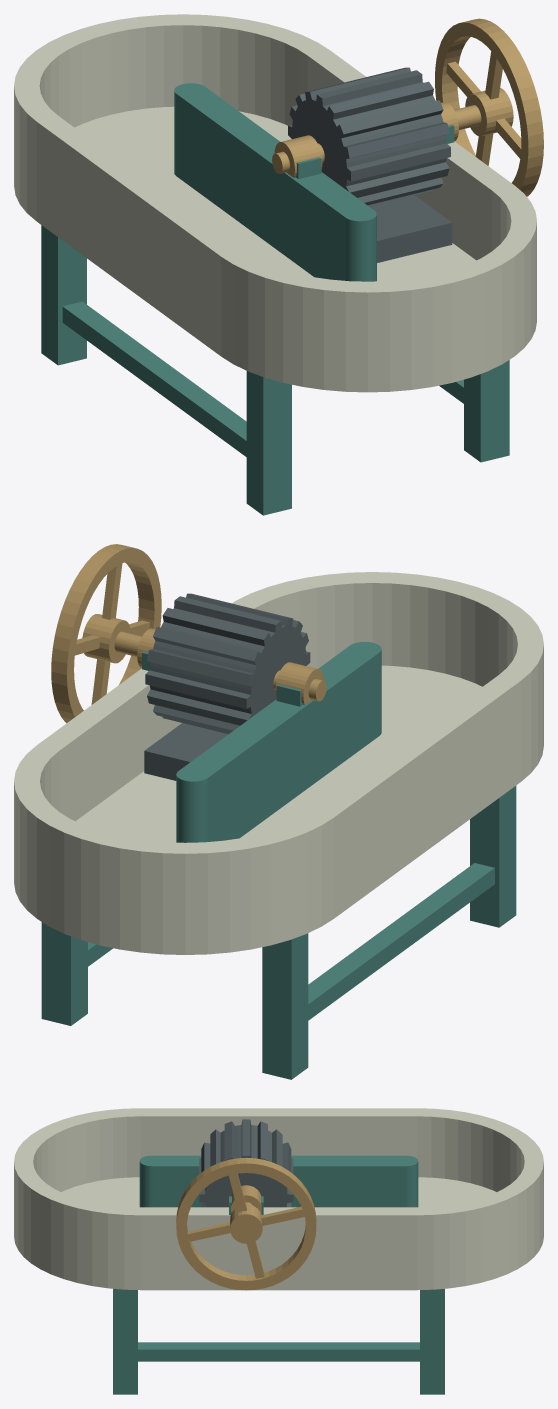
3 renders of one model, top to bottom at view 1: azimuth 30°, elevation 25°; view 2: azimuth 150°, elevation 25°; view 3: azimuth 270°, elevation 25°, orthographic. The views are drawn at different scales.
Parts seen in each view (by area): view 1: WholeClosedBottomOvalRacewayTub, WholeRoundedCentralPartition, WholeIntegralLongBarBeaterDrum, LeftWholeLowerRail, WholeOutsideDriveWheelRim, LeftForeWholeGroundLeg, LeftAftWholeGroundLeg, RightForeWholeGroundLeg, WholeRaisedBedPlate, WholeOutsideDriveWheelHub, InnerWholeBoredShaftCollar, WholeThroughDrumShaft; view 2: WholeClosedBottomOvalRacewayTub, WholeRoundedCentralPartition, WholeIntegralLongBarBeaterDrum, LeftWholeLowerRail, WholeOutsideDriveWheelRim, LeftAftWholeGroundLeg, LeftForeWholeGroundLeg, RightAftWholeGroundLeg, WholeRaisedBedPlate, WholeOutsideDriveWheelHub, InnerWholeBoredShaftCollar, WholeThroughDrumShaft (+1 smaller); view 3: WholeClosedBottomOvalRacewayTub, WholeRoundedCentralPartition, RightWholeLowerRail, WholeOutsideDriveWheelRim, WholeIntegralLongBarBeaterDrum, RightAftWholeGroundLeg, RightForeWholeGroundLeg, WholeOutsideDriveWheelHub, WholeDriveWheelSpoke_2, WholeDriveWheelSpoke_0, OuterWholeBoredShaftCollar, WholeDriveWheelSpoke_1 (+1 smaller).
Part boxes in pixels (box(x1,y1,x2,y2)): WholeClosedBottomOvalRacewayTub: box(14, 14, 536, 392); WholeRoundedCentralPartition: box(174, 83, 376, 281); WholeIntegralLongBarBeaterDrum: box(288, 67, 450, 206); LeftWholeLowerRail: box(62, 301, 246, 456); WholeOutsideDriveWheelRim: box(435, 18, 543, 196); LeftForeWholeGroundLeg: box(246, 371, 291, 515); LeftAftWholeGroundLeg: box(41, 225, 86, 365); RightForeWholeGroundLeg: box(464, 360, 509, 462); WholeRaisedBedPlate: box(369, 195, 452, 262); WholeOutsideDriveWheelHub: box(465, 88, 513, 136); InnerWholeBoredShaftCollar: box(274, 135, 322, 177); WholeThroughDrumShaft: box(272, 105, 481, 173); WholeClosedBottomOvalRacewayTub: box(14, 572, 543, 954); WholeRoundedCentralPartition: box(176, 642, 381, 842); WholeIntegralLongBarBeaterDrum: box(145, 593, 310, 734); LeftWholeLowerRail: box(308, 863, 494, 1020); WholeOutsideDriveWheelRim: box(51, 544, 161, 723); LeftAftWholeGroundLeg: box(262, 933, 308, 1079); LeftForeWholeGroundLeg: box(470, 785, 516, 927); RightAftWholeGroundLeg: box(41, 922, 87, 1025); WholeRaisedBedPlate: box(144, 723, 228, 780); WholeOutsideDriveWheelHub: box(82, 614, 130, 663); InnerWholeBoredShaftCollar: box(275, 662, 324, 704); WholeThroughDrumShaft: box(114, 631, 326, 701); WholeClosedBottomOvalRacewayTub: box(14, 1108, 543, 1290); WholeRoundedCentralPartition: box(139, 1155, 418, 1207); RightWholeLowerRail: box(138, 1342, 419, 1361); WholeOutsideDriveWheelRim: box(176, 1157, 316, 1290); WholeIntegralLongBarBeaterDrum: box(199, 1119, 293, 1207); RightAftWholeGroundLeg: box(420, 1288, 444, 1394); RightForeWholeGroundLeg: box(113, 1288, 137, 1394); WholeOutsideDriveWheelHub: box(230, 1204, 262, 1243); WholeDriveWheelSpoke_2: box(187, 1222, 230, 1241); WholeDriveWheelSpoke_0: box(260, 1206, 304, 1225); OuterWholeBoredShaftCollar: box(231, 1185, 261, 1212); WholeDriveWheelSpoke_1: box(229, 1173, 246, 1212).
Size of the model in its own units: 1.59 by 1.49 by 2.76.
